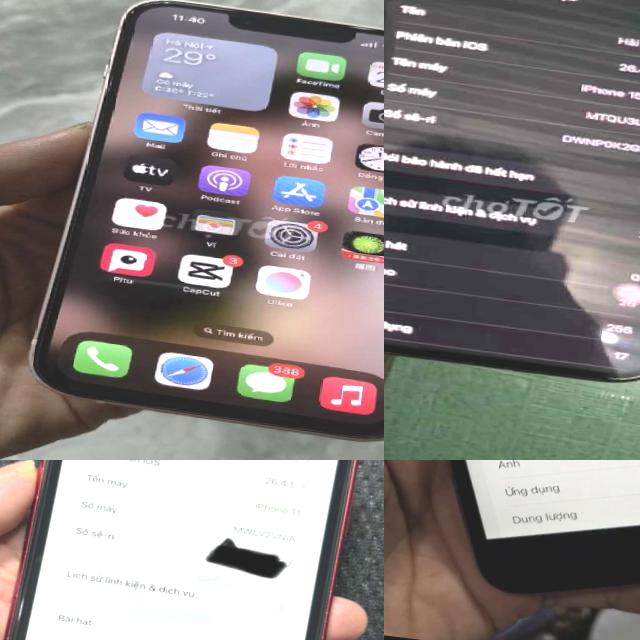gen_11: (8, 460, 358, 640)
gen_12_13: (12, 0, 384, 454)
gen_15: (384, 0, 640, 410)
gen_6: (384, 460, 640, 640)
scratch: (0, 505, 39, 640)
